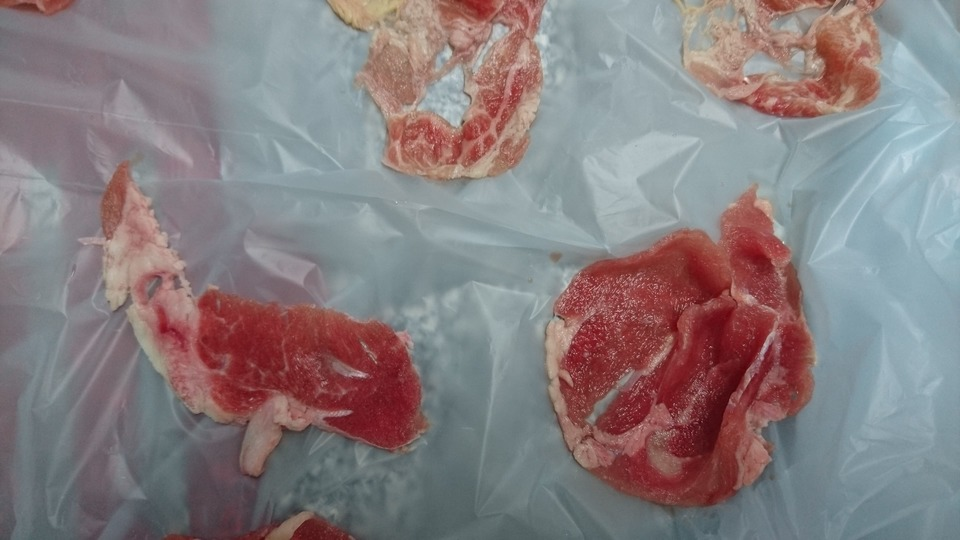restructured meat: (88, 178, 453, 463), (516, 210, 833, 486), (330, 4, 551, 181), (677, 1, 890, 124)
